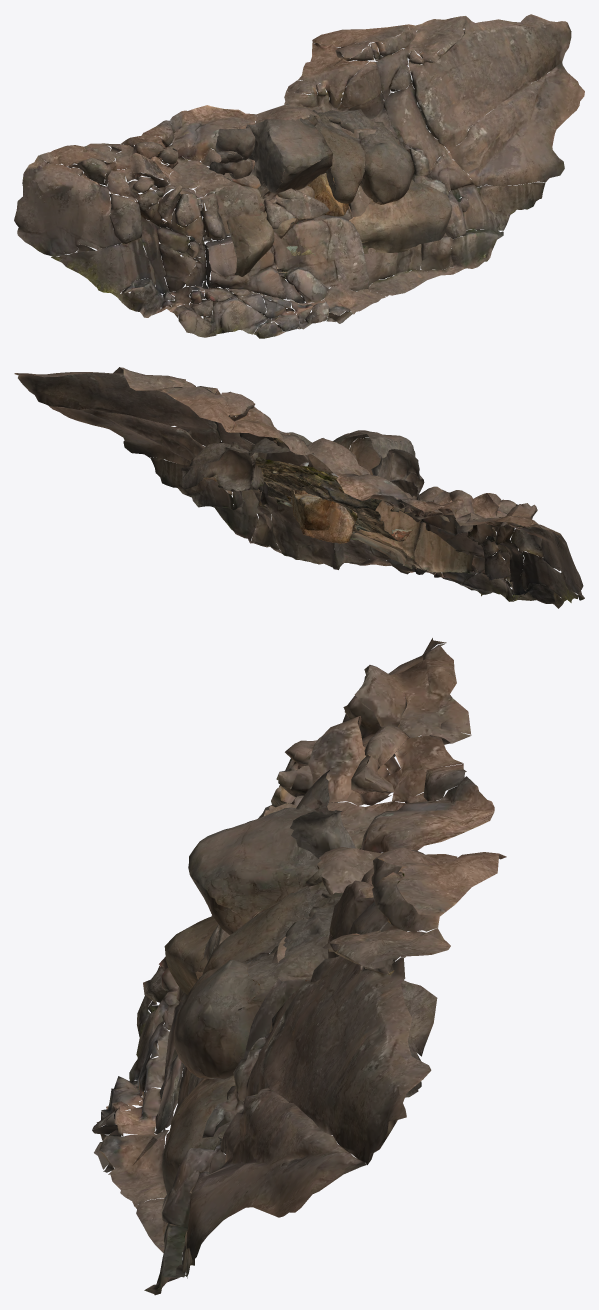
Rendered from rocks.glb.
3 views of the same model, one above another, from view 1: azimuth 30°, elevation 25°; view 2: azimuth 150°, elevation 25°; view 3: azimuth 270°, elevation 25° (orthographic). The views are drawn at different scales.
Visible parts, largest first — view 1: namaqualand_cliff_02, namaqualand_cliff_01, namaqualand_boulder_03; view 2: namaqualand_cliff_02, namaqualand_cliff_01, rock_face_01, namaqualand_boulder_04, namaqualand_boulder_03; view 3: namaqualand_cliff_02, namaqualand_cliff_01.
Part boxes in pixels (x1,y1,x2,y2): namaqualand_cliff_02: [14, 14, 584, 338]; namaqualand_cliff_01: [209, 101, 451, 296]; namaqualand_boulder_03: [308, 173, 348, 216]; namaqualand_cliff_02: [14, 367, 584, 608]; namaqualand_cliff_01: [181, 430, 474, 574]; rock_face_01: [255, 457, 412, 541]; namaqualand_boulder_04: [295, 462, 357, 543]; namaqualand_boulder_03: [291, 489, 357, 530]; namaqualand_cliff_02: [92, 638, 506, 1295]; namaqualand_cliff_01: [161, 770, 437, 1194].
Bounding box in the file's own units: 20.21 × 7.19 × 6.61.
6 materials, 6 textured.
